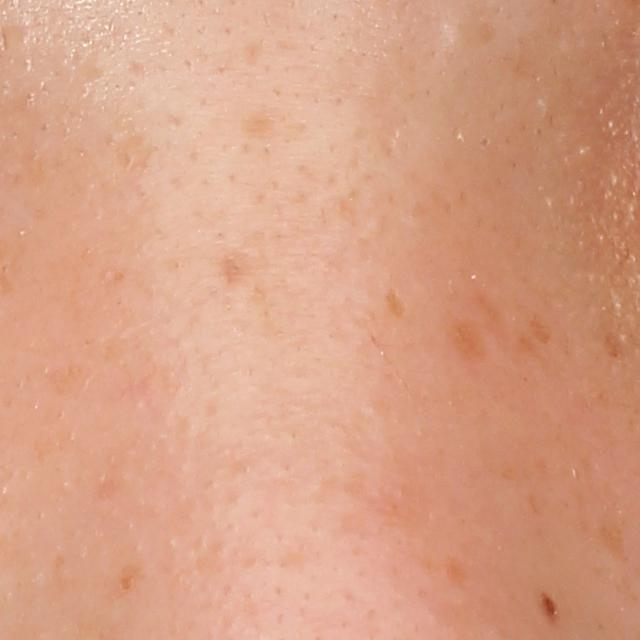melasma: (42, 361, 106, 398), (107, 129, 155, 178), (589, 519, 635, 568), (441, 312, 487, 360), (515, 312, 557, 360), (438, 555, 473, 588), (115, 557, 142, 598), (381, 286, 408, 320), (599, 333, 624, 360)
nevus: (538, 586, 561, 628)
